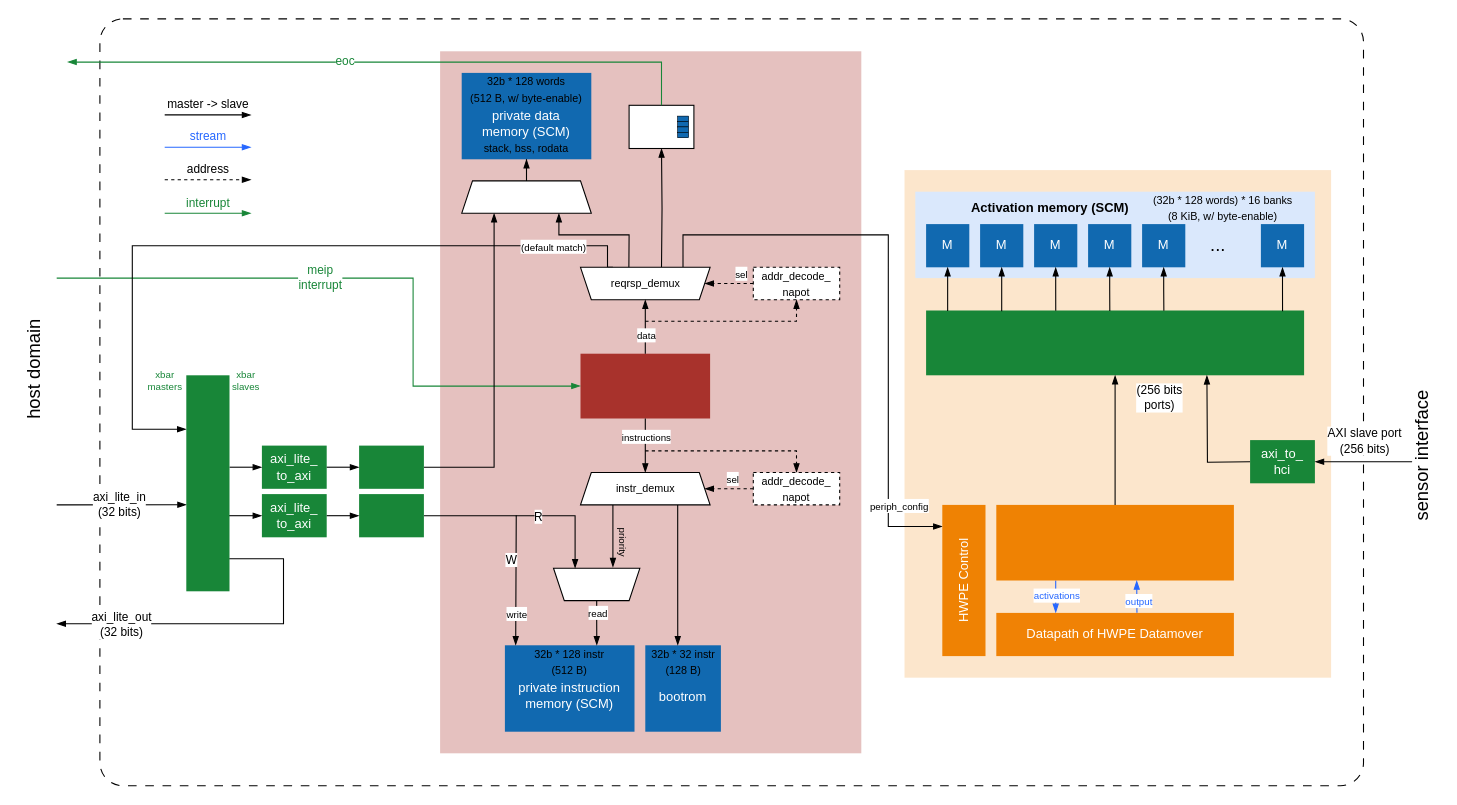
This 1457x805 diagram has some shape labels left out. Each missing label, with the centre of its shape:
"axi_lite_xbar" goes at [207,483].
"axi_to_ mem" goes at [391,515].
"axi_to_ reqrsp" goes at [391,466].
"HCI (only wide ports)" goes at [1115,342].
"HWPE Streamer" goes at [1114,542].
"reqrsp_mux" goes at [526,196].
"Snitch core rv32e" goes at [645,385].
"stream_arbiter" goes at [596,584].
"wl_ registers" goes at [661,126].
